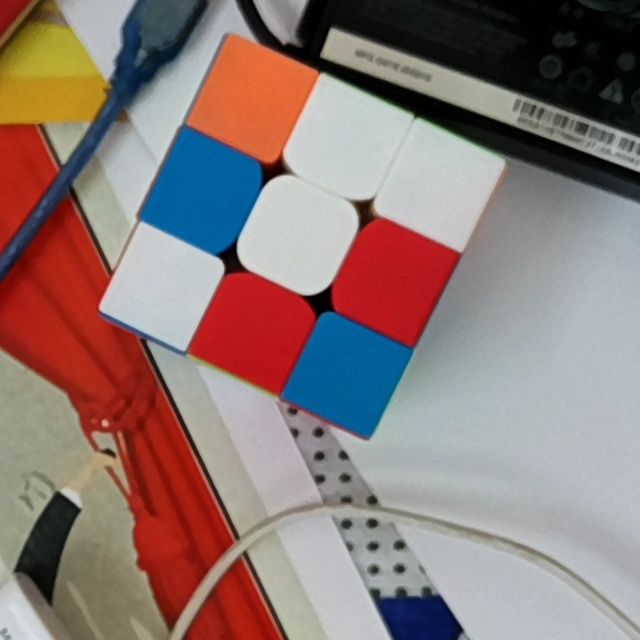tile: (307, 105, 381, 179), (258, 201, 333, 274), (401, 151, 477, 220), (168, 157, 240, 228), (215, 294, 291, 361), (356, 243, 428, 313), (215, 65, 287, 132), (310, 341, 383, 407), (127, 253, 194, 322)
